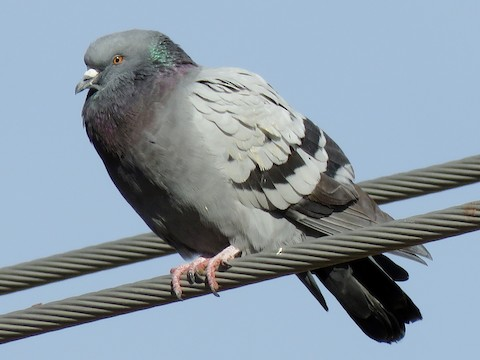pigeon: (71, 27, 434, 347)
